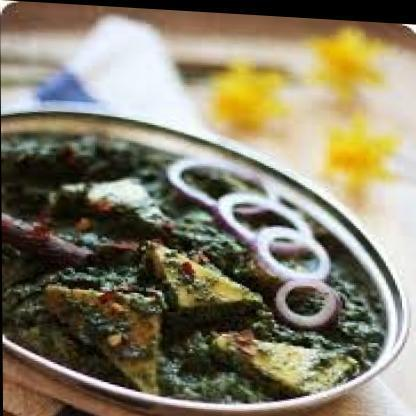palak_paneer: (1, 127, 388, 410)
